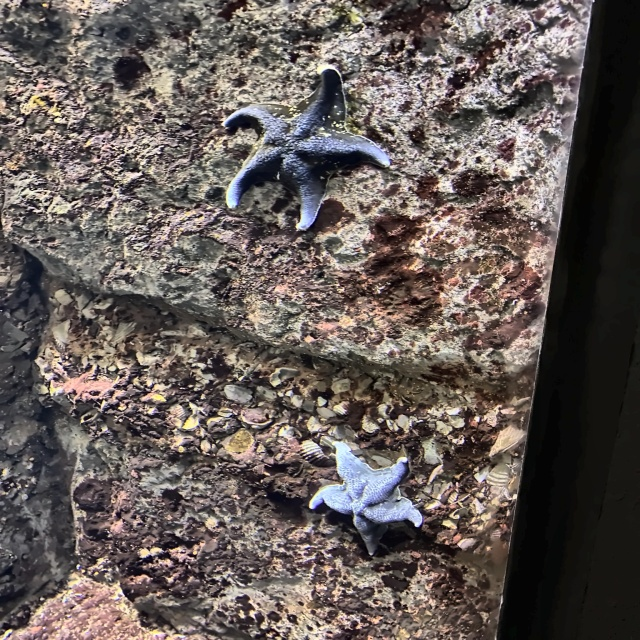starfish: (221, 65, 391, 231), (308, 441, 423, 557)
